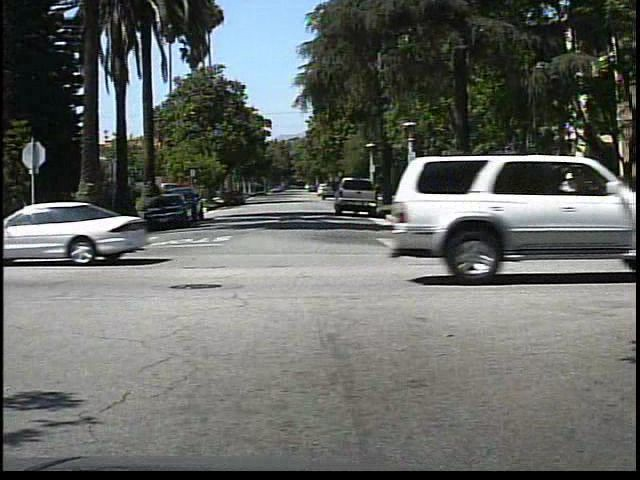person: (552, 167, 582, 236)
